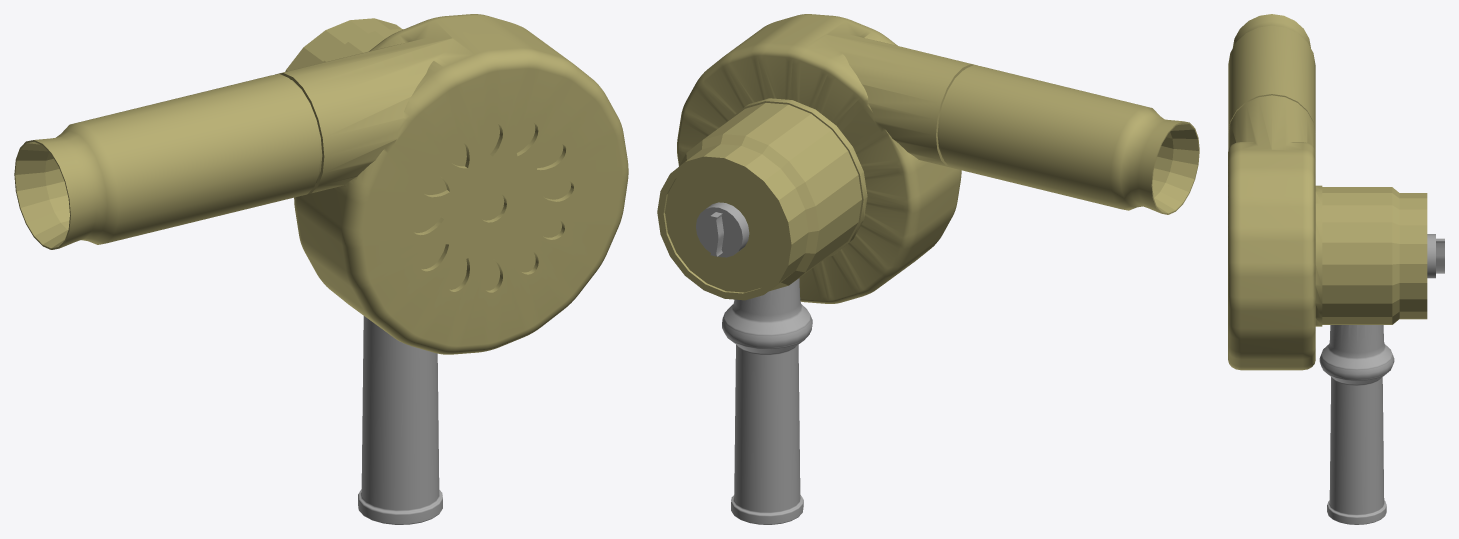
Rendered from dryer.fbx.
The picture shows the model from 3 angles, left to right: view 1: azimuth 30°, elevation 25°; view 2: azimuth 150°, elevation 25°; view 3: azimuth 270°, elevation 25°; orthographic projection. The views are drawn at different scales.
Visible parts, largest first — view 1: polySurface6, pCylinder1; view 2: polySurface6, pCylinder1, polySurface8; view 3: polySurface6, pCylinder1, polySurface8.
Boxes of the visible parts, left/top/right/bottom form: polySurface6: left=14, top=14, right=628, bottom=354; pCylinder1: left=358, top=316, right=442, bottom=524; polySurface6: left=657, top=14, right=1199, bottom=303; pCylinder1: left=722, top=278, right=812, bottom=524; polySurface8: left=696, top=202, right=749, bottom=257; polySurface6: left=1228, top=14, right=1427, bottom=370; pCylinder1: left=1319, top=325, right=1394, bottom=524; polySurface8: left=1427, top=234, right=1444, bottom=278.
Size of the model in its own units: 5.89 by 5.19 by 2.83.
